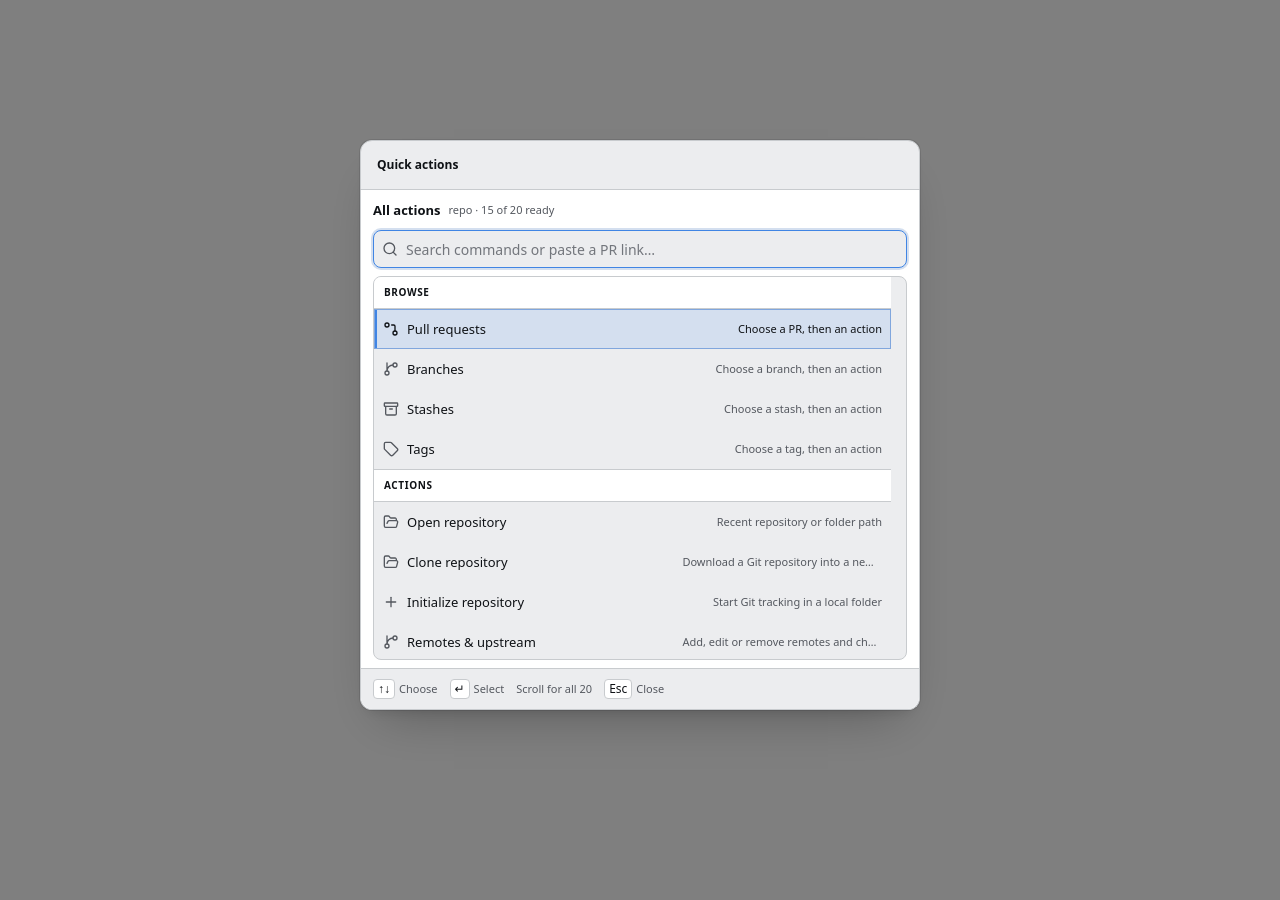
AppCommandPalette › does not offer a normal push for a diverged branch
In the field named "Search actions": (652, 249) [406,231,898,267], type "Push"
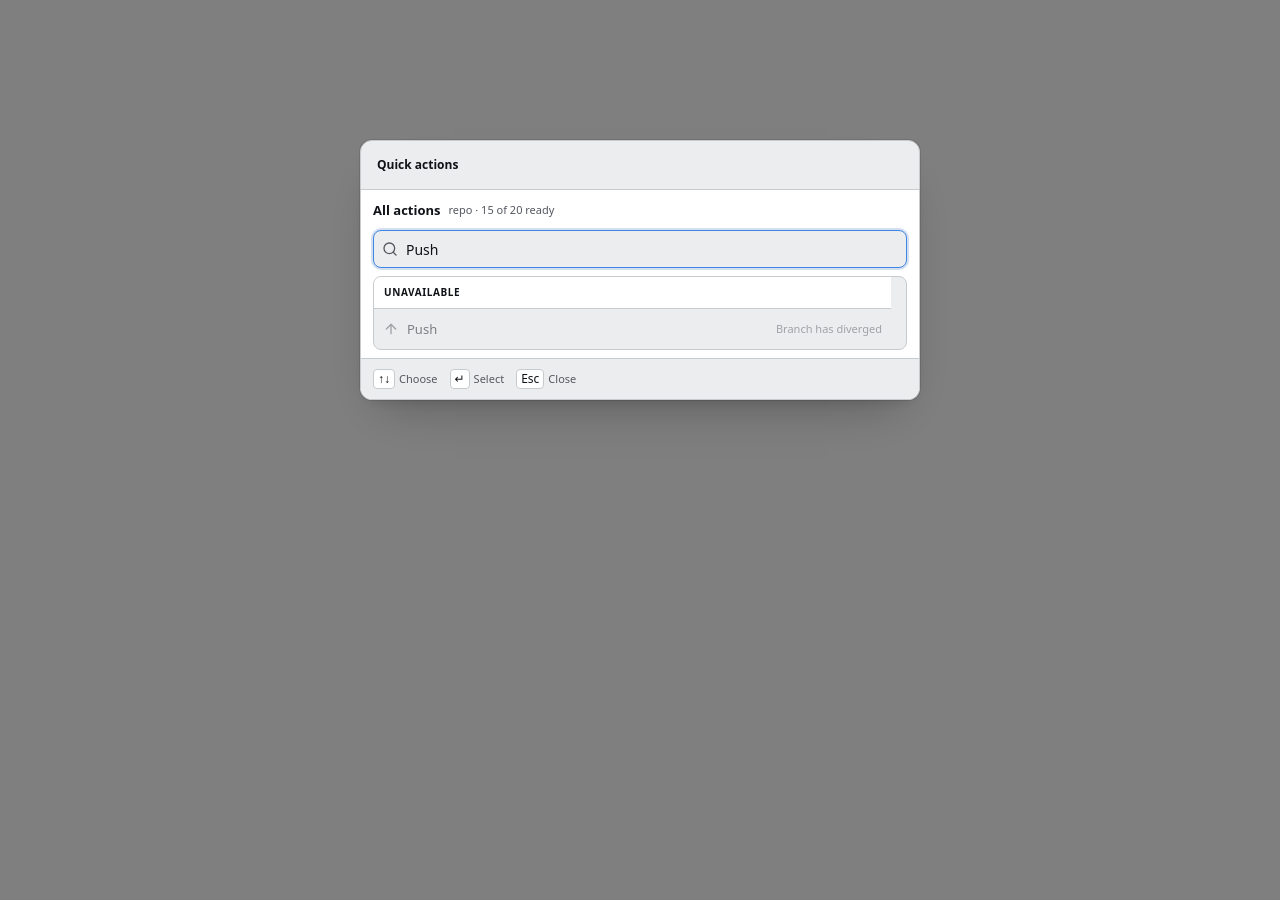
Expected: the button "Push Branch has diverged" is disabled, [374,309,891,349]
Expected: the button "Push Branch has diverged" is shown, [374,309,891,349]
